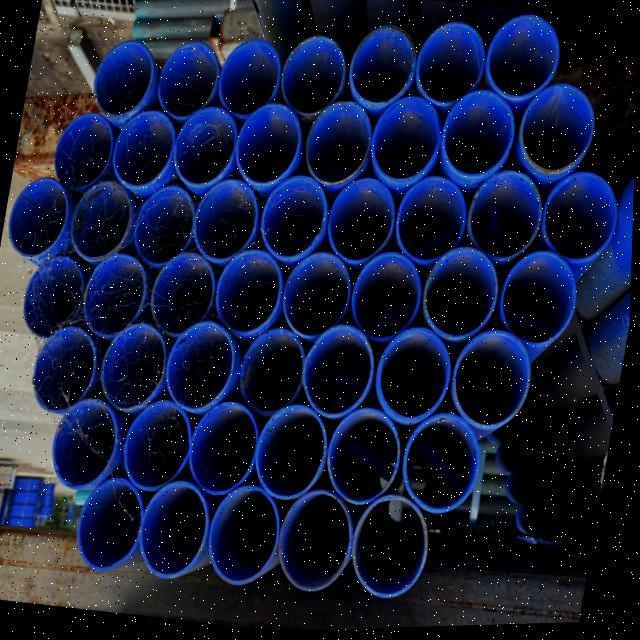pipe: (347, 491, 440, 606), (447, 328, 542, 438), (398, 410, 491, 522), (274, 486, 362, 600), (372, 324, 461, 433), (204, 482, 290, 593), (322, 405, 411, 512), (496, 248, 585, 354), (135, 477, 219, 587), (251, 402, 338, 508), (514, 80, 602, 184), (419, 246, 507, 350), (298, 322, 384, 427), (538, 170, 626, 272), (462, 169, 550, 270), (438, 85, 522, 188), (162, 316, 244, 419), (120, 396, 202, 498), (186, 398, 266, 502), (348, 249, 430, 350), (481, 12, 566, 109), (277, 247, 360, 346), (74, 474, 152, 578), (391, 175, 474, 272), (368, 92, 450, 190), (49, 394, 127, 496), (234, 325, 314, 423), (410, 18, 491, 114), (98, 319, 176, 417), (323, 176, 402, 272), (212, 246, 290, 343), (188, 175, 266, 270), (257, 173, 334, 269), (148, 248, 223, 344), (276, 31, 354, 123), (301, 99, 378, 192), (232, 99, 308, 193), (30, 322, 104, 418), (344, 22, 421, 114), (80, 250, 154, 344), (169, 102, 243, 194), (68, 175, 140, 267), (152, 38, 225, 128), (108, 106, 180, 196), (214, 36, 286, 126), (131, 182, 202, 272), (22, 252, 92, 343), (5, 174, 75, 263), (90, 36, 160, 124), (50, 108, 118, 194)
